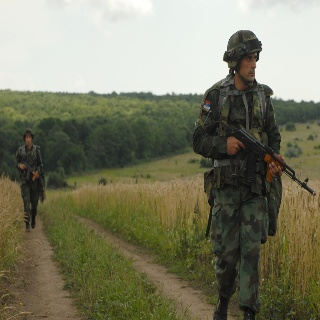rifle: (228, 125, 317, 201), (18, 157, 39, 182)
